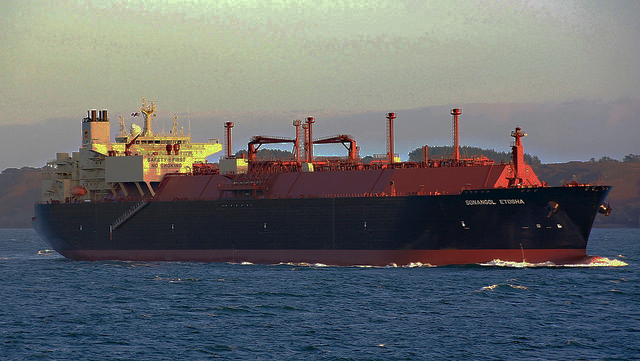LNG_ship: (30, 107, 617, 267)
